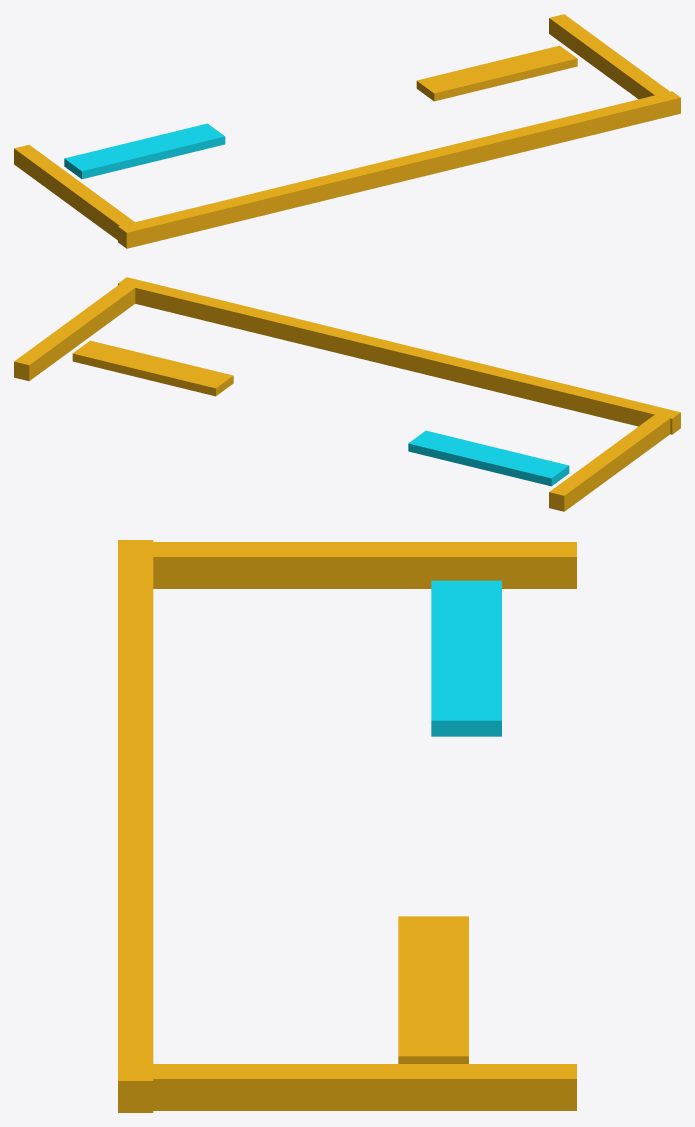
The model's file is neon_arch_and_signs.obj.
3 renders of one model, top to bottom at view 1: azimuth 30°, elevation 25°; view 2: azimuth 150°, elevation 25°; view 3: azimuth 270°, elevation 25°, orthographic. The views are drawn at different scales.
Parts seen in each view (by area): view 1: arch_top, gold_sign, cyan_sign, arch_left, arch_right; view 2: arch_top, gold_sign, cyan_sign, arch_right, arch_left; view 3: arch_top, arch_right, arch_left, cyan_sign, gold_sign.
Part boxes in pixels (bbox=[...]): arch_top: bbox=[118, 91, 680, 248]; gold_sign: bbox=[416, 45, 577, 101]; cyan_sign: bbox=[64, 123, 225, 179]; arch_left: bbox=[14, 145, 138, 240]; arch_right: bbox=[549, 14, 672, 99]; arch_top: bbox=[118, 277, 680, 434]; gold_sign: bbox=[72, 340, 233, 396]; cyan_sign: bbox=[408, 430, 569, 486]; arch_right: bbox=[14, 281, 138, 380]; arch_left: bbox=[549, 411, 670, 511]; arch_top: bbox=[118, 540, 153, 1112]; arch_right: bbox=[136, 1064, 576, 1110]; arch_left: bbox=[135, 542, 576, 588]; cyan_sign: bbox=[431, 580, 501, 736]; gold_sign: bbox=[398, 916, 468, 1063].
Bounding box in the file's own units: 5.8 × 0.16 × 2.08.
